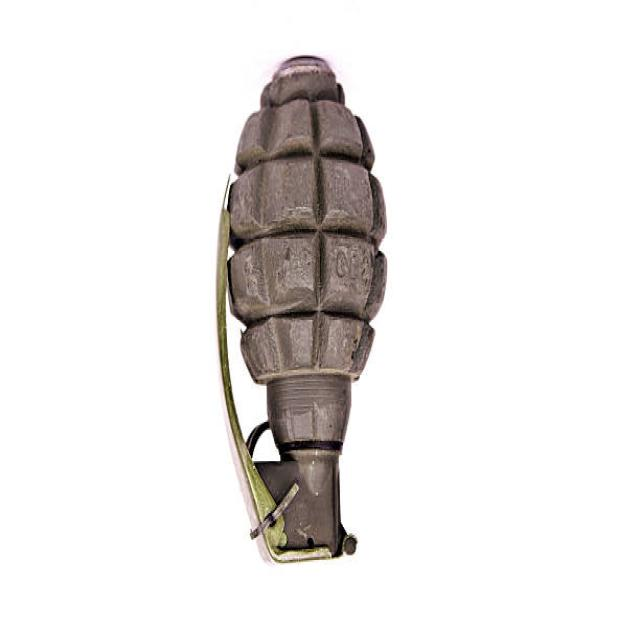grenade: (217, 49, 397, 571)
